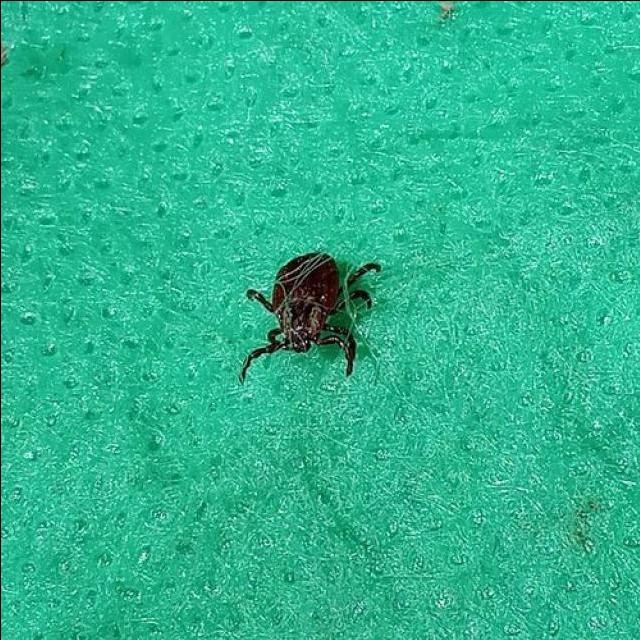Dermacentor Reticulatus-F: (241, 251, 381, 381)
